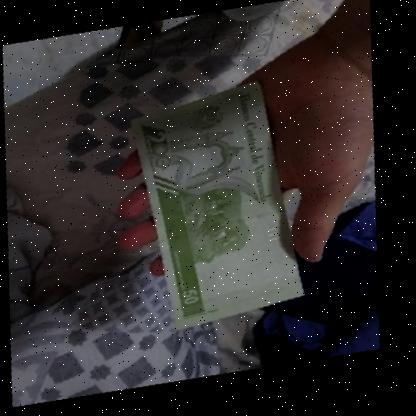fifty-back-vef: (110, 75, 333, 341)
